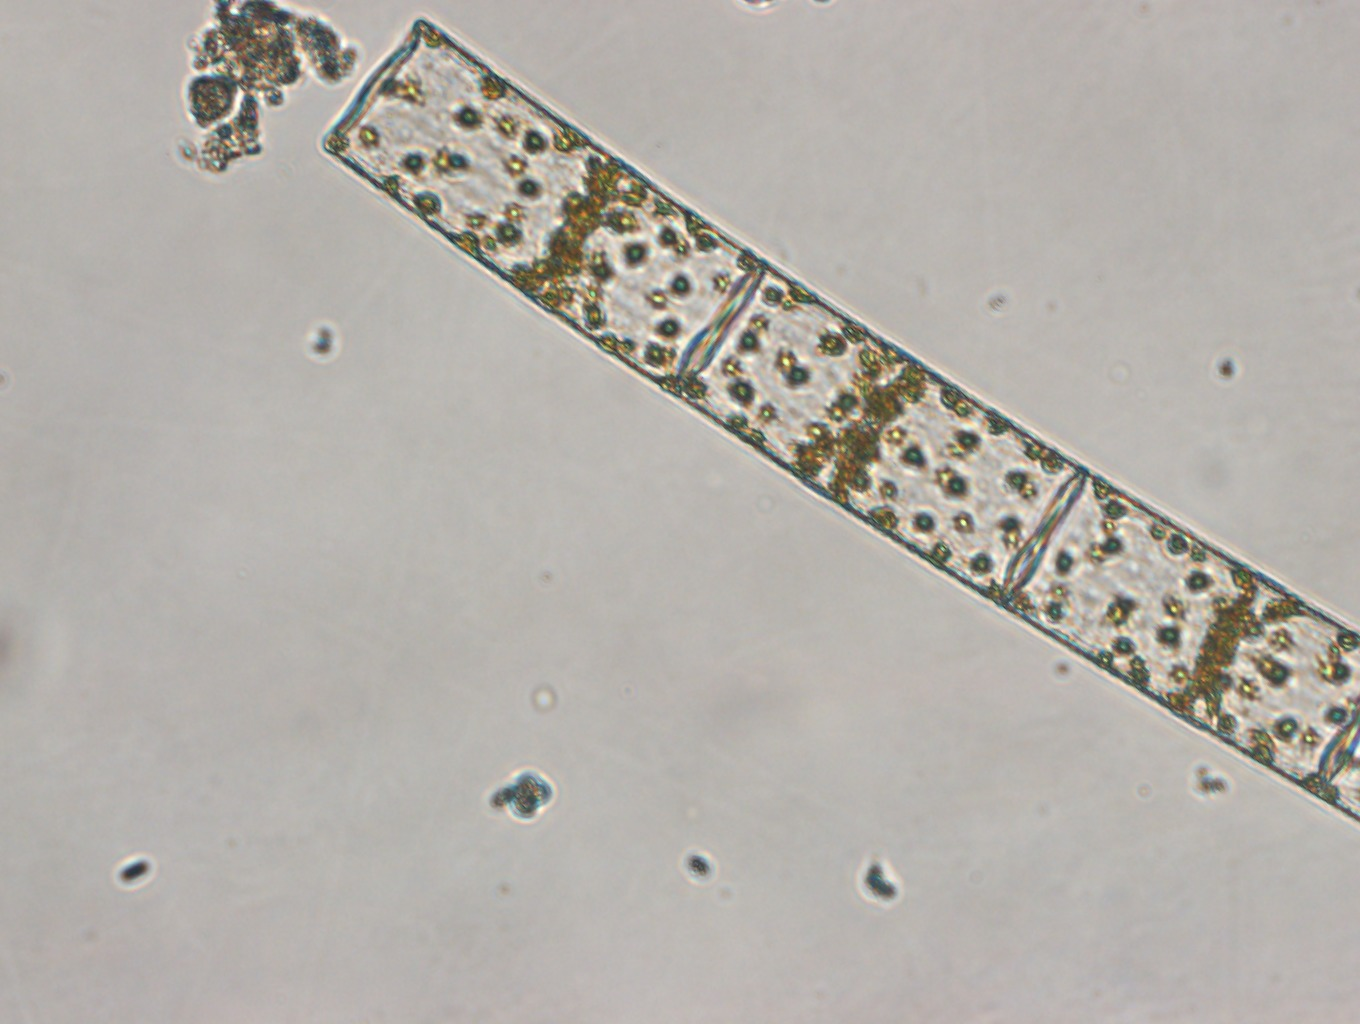guinardia flaccida: (317, 13, 1360, 826)
